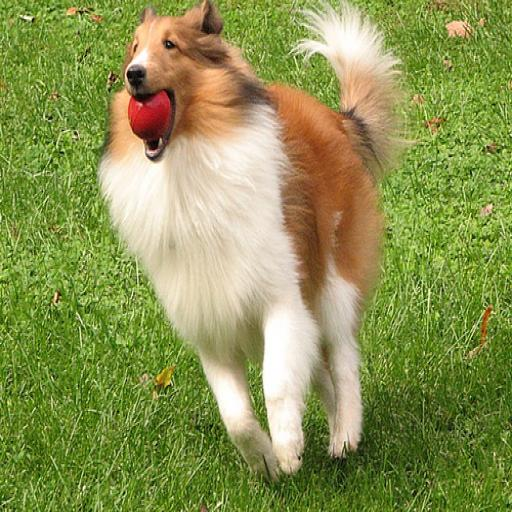dog_face: (108, 6, 238, 173)
